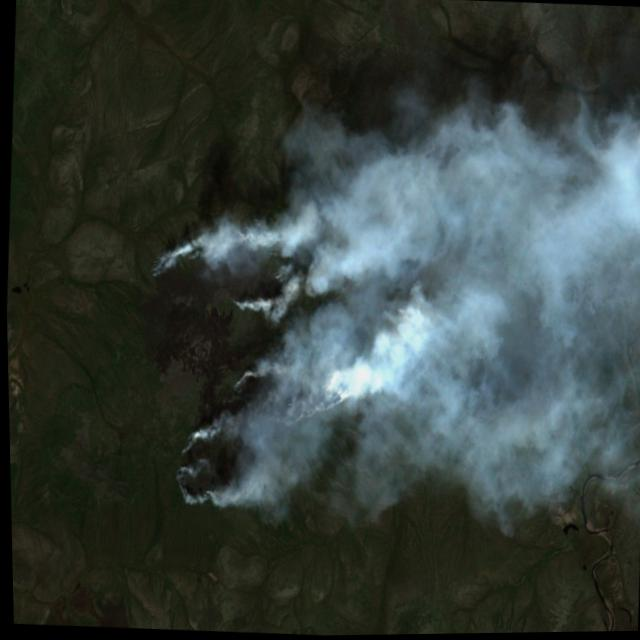fire: (126, 201, 359, 519)
